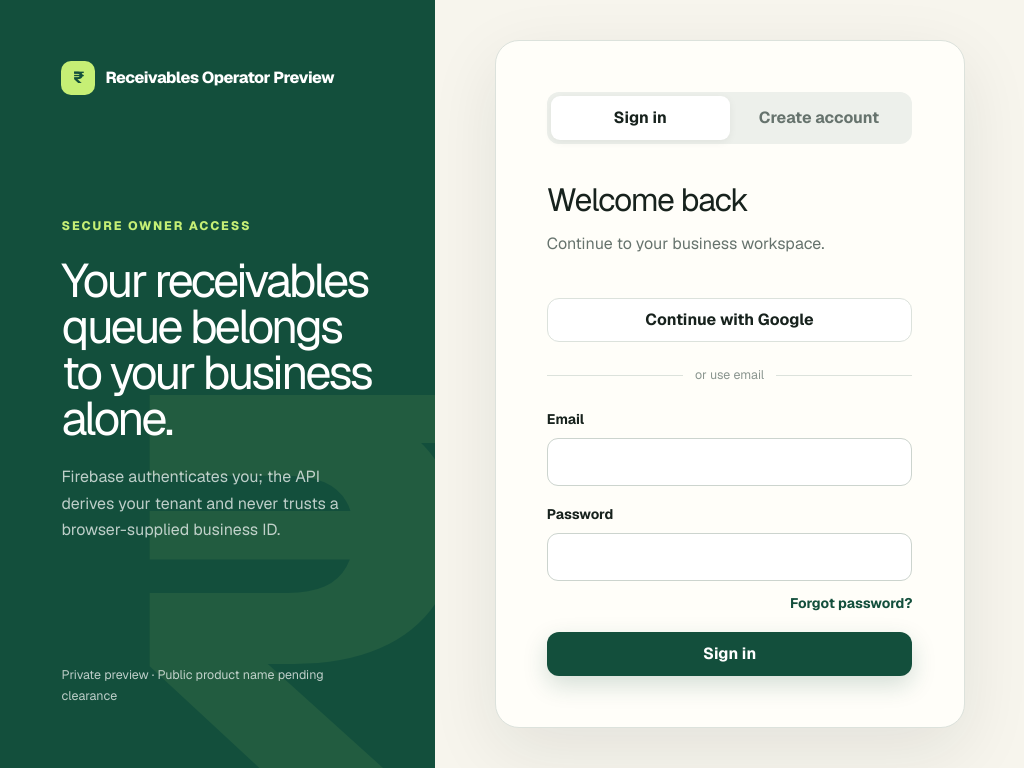
login page password reset › explains that local reset links are not delivered by email
Click the button "Forgot password?" at x=851, y=603, box [790,593,912,614]
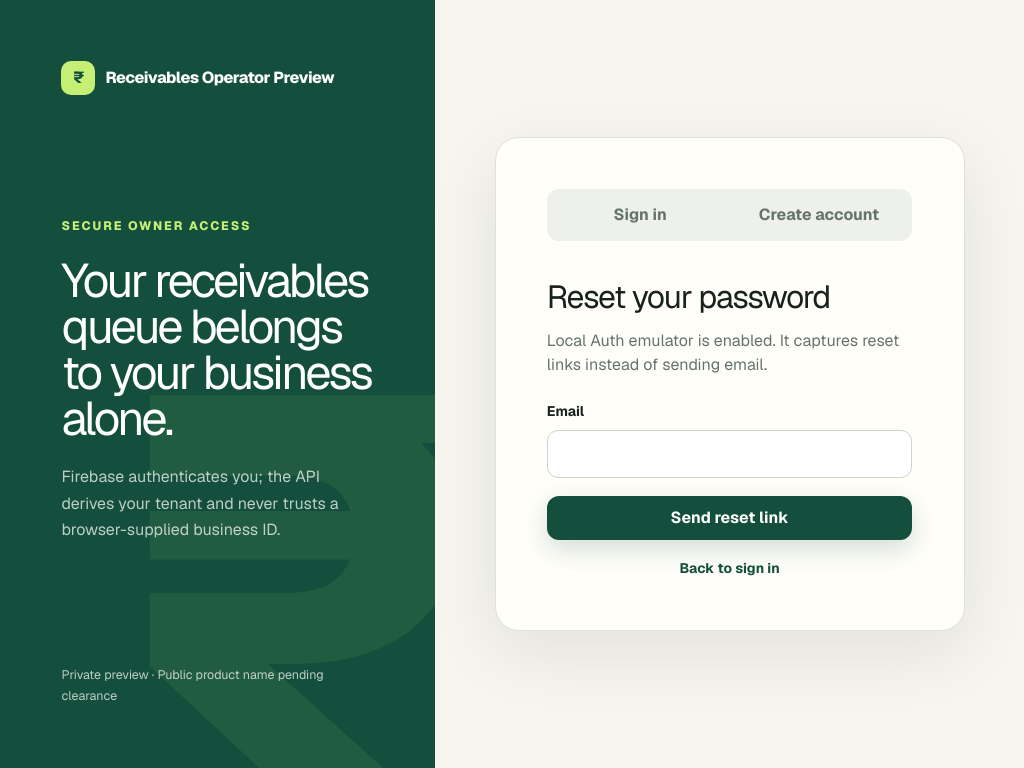
Check: the text "captures reset links instead of sending email" is shown, box [547,330,899,375]
Type "owner-a@example.test" into the field labelled "Email" at x=730, y=454, box [547,430,912,478]
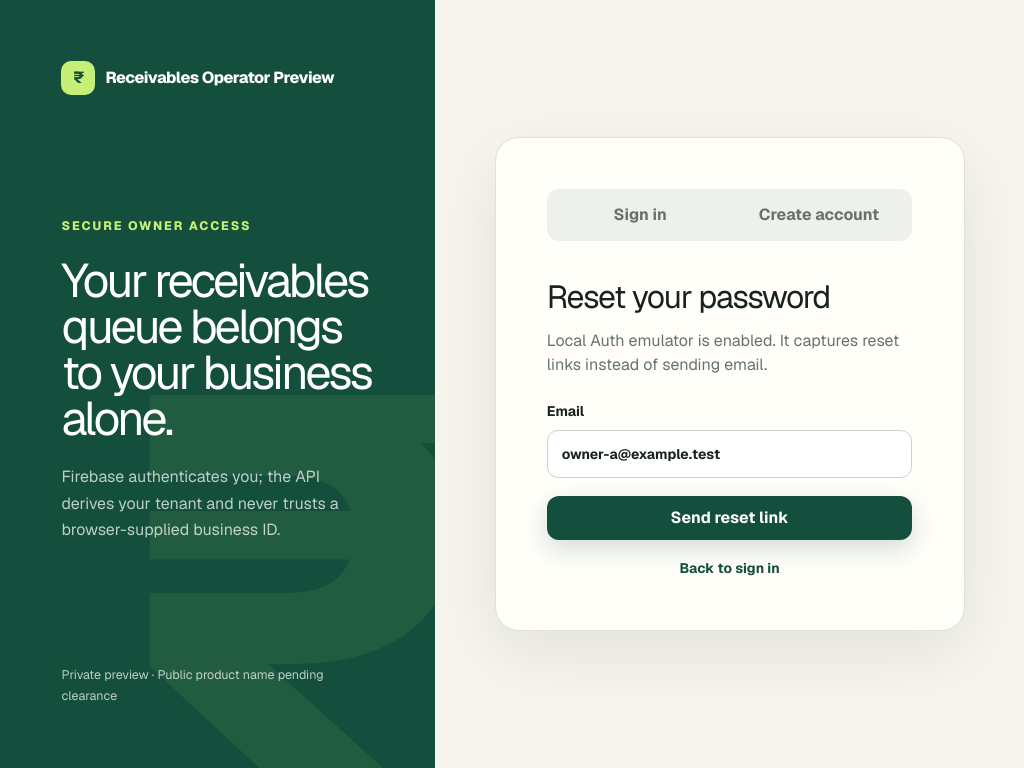
Click the button "Send reset link" at x=730, y=518, box [547,496,912,540]
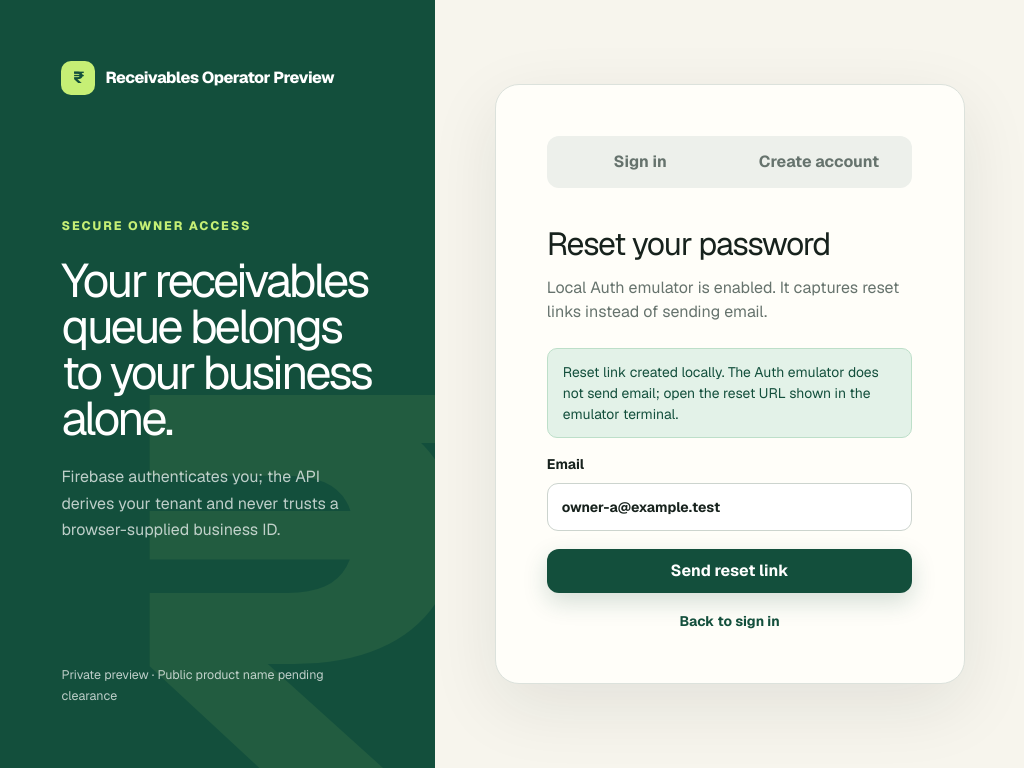
Check: the message shows "The Auth emulator does not send email", box [563,363,879,423]
